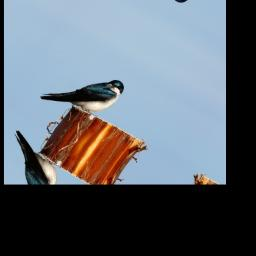Swallow: (38, 52, 129, 131)
